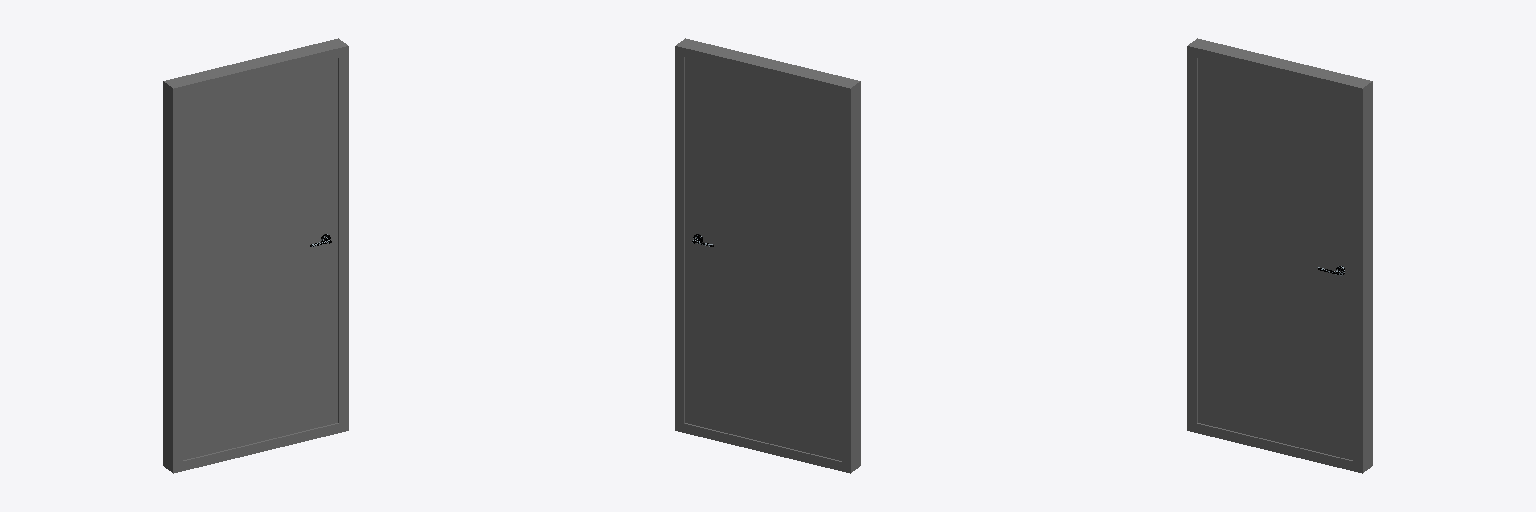
3 renders of one model, left to right at view 1: azimuth 30°, elevation 25°; view 2: azimuth 150°, elevation 25°; view 3: azimuth 330°, elevation 25°, orthographic.
Visible parts, largest first — view 1: Mesh1 Model; view 2: Mesh1 Model; view 3: Mesh1 Model.
Boxes of the visible parts, x1,y1,x2,y2 form: Mesh1 Model: [163, 38, 348, 473]; Mesh1 Model: [675, 38, 860, 473]; Mesh1 Model: [1187, 38, 1372, 473].
Bounding box in the file's own units: 1 × 2.1 × 0.18.
Materials: 6 (2 with a texture image).